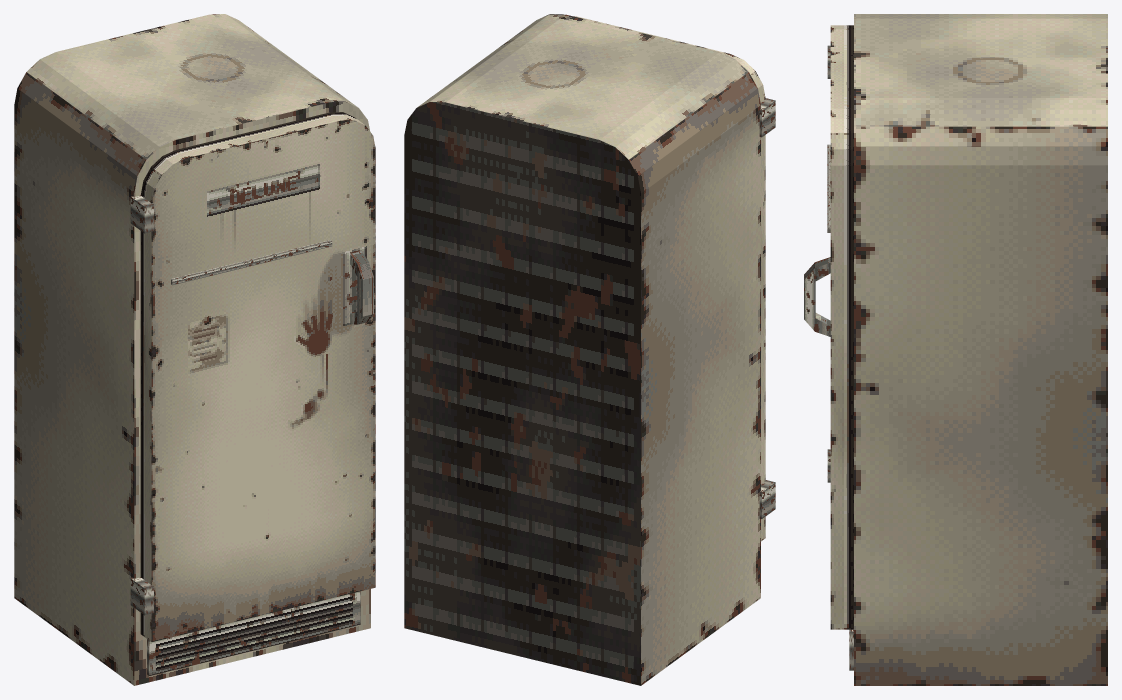
The model's file is fridge_retro.glb.
3 renders of one model, left to right at view 1: azimuth 30°, elevation 25°; view 2: azimuth 150°, elevation 25°; view 3: azimuth 270°, elevation 25°, orthographic. The views are drawn at different scales.
Visible parts, largest first — view 1: fridge_retro; view 2: fridge_retro; view 3: fridge_retro.
Boxes of the visible parts, x1=… form: fridge_retro: x1=14, y1=14, x2=375, y2=685; fridge_retro: x1=404, y1=14, x2=775, y2=685; fridge_retro: x1=804, y1=14, x2=1107, y2=685.
Size of the model in its own units: 0.747 by 1.6 by 0.778.
1 material, 1 textured.
